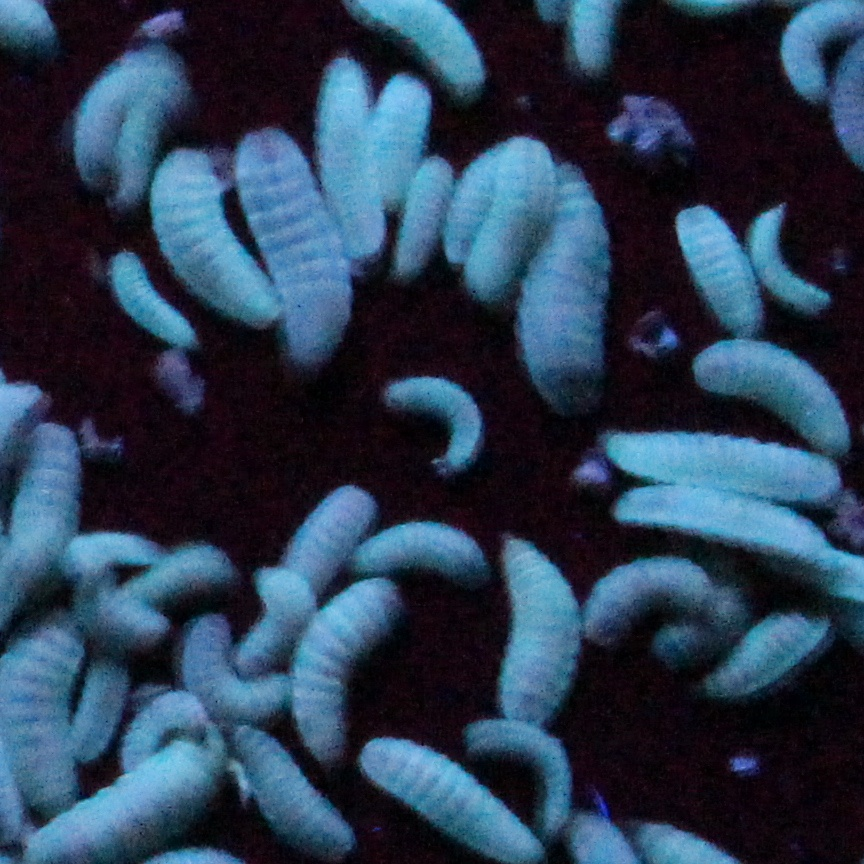larve: (234, 114, 356, 367), (516, 149, 620, 414), (149, 134, 276, 325), (680, 329, 858, 458), (609, 478, 845, 567), (291, 580, 396, 762), (596, 425, 829, 502), (229, 723, 356, 863), (496, 532, 576, 729), (694, 587, 838, 692), (465, 131, 553, 298), (318, 49, 383, 269), (56, 525, 165, 656), (463, 711, 576, 832), (271, 489, 383, 607), (340, 512, 503, 591), (733, 189, 831, 316), (182, 614, 293, 722), (580, 551, 711, 640), (383, 371, 489, 480), (676, 203, 765, 332), (96, 251, 198, 354), (649, 574, 756, 671), (11, 418, 76, 571), (367, 72, 438, 211), (233, 562, 314, 676), (129, 536, 236, 612), (113, 78, 163, 220), (67, 654, 133, 752), (122, 689, 209, 763), (71, 67, 129, 176), (394, 158, 445, 278), (451, 145, 505, 252)
